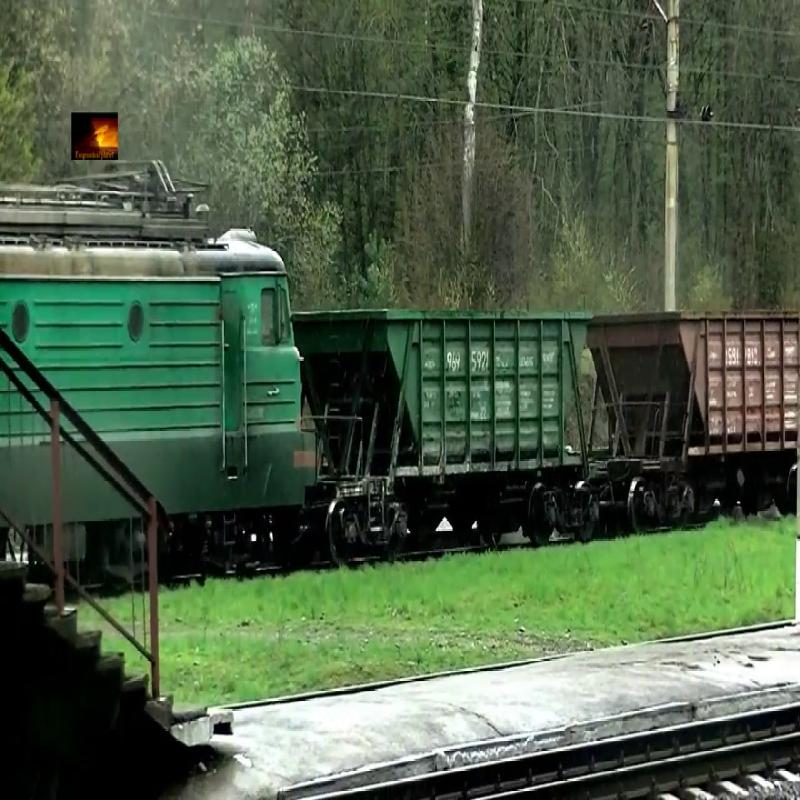train: (294, 312, 594, 478), (586, 312, 800, 463)
